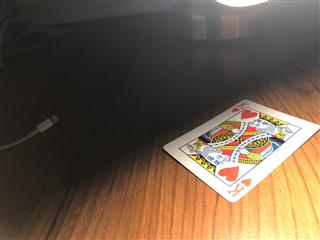KingOfHearts: (162, 98, 319, 202)
